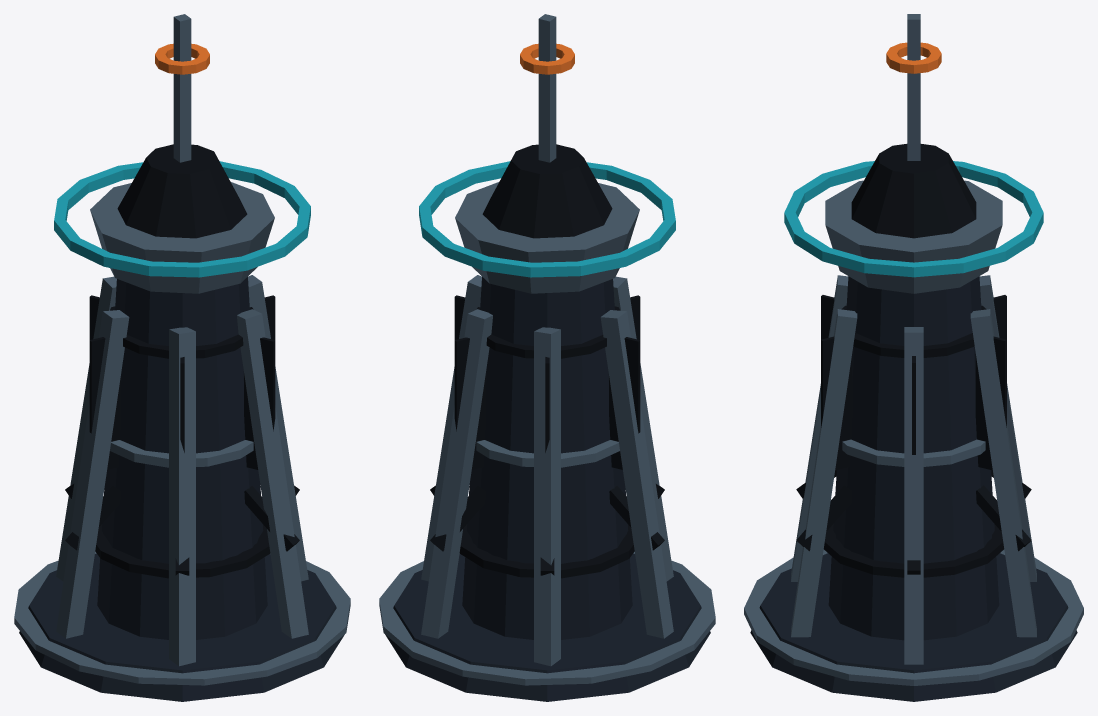
File: chaos_reactor_spire.obj
3 renders of one model, left to right at view 1: azimuth 30°, elevation 25°; view 2: azimuth 150°, elevation 25°; view 3: azimuth 270°, elevation 25°, orthographic.
Visible parts, largest first — view 1: CentralCore, Foundation12Sided, RotorHub, TaperedLeg2, ReceiverCrown, TaperedLeg3, TaperedLeg1, SkyReceiver, CurbPlates, CoreSeamA, CentralAerial, TaperedLeg4 (+8 smaller); view 2: CentralCore, Foundation12Sided, RotorHub, TaperedLeg4, ReceiverCrown, TaperedLeg3, TaperedLeg5, SkyReceiver, CurbPlates, CoreSeamA, CentralAerial, TaperedLeg2 (+8 smaller); view 3: CentralCore, Foundation12Sided, ReceiverCrown, RotorHub, SkyReceiver, CurbPlates, TaperedLeg1, TaperedLeg5, TaperedLeg0, CoreSeamA, TaperedLeg2, TaperedLeg4 (+8 smaller).
Part boxes in pixels (x1,y1,x2,y2): CentralCore: (97,277,267,639); Foundation12Sided: (19,553,344,701); RotorHub: (90,182,274,293); TaperedLeg2: (169,327,195,666); ReceiverCrown: (117,144,247,238); TaperedLeg3: (56,310,129,638); TaperedLeg1: (237,309,308,638); SkyReceiver: (54,161,310,277); CurbPlates: (14,552,350,685); CoreSeamA: (95,524,270,578); CentralAerial: (173,14,191,162); TaperedLeg4: (56,276,116,581); CentralCore: (462,277,632,639); Foundation12Sided: (385,553,710,701); RotorHub: (455,182,639,293); TaperedLeg4: (534,327,560,666); ReceiverCrown: (482,144,612,238); TaperedLeg3: (600,310,673,638); TaperedLeg5: (421,309,492,638); SkyReceiver: (419,161,675,277); CurbPlates: (379,552,715,685); CoreSeamA: (459,524,634,578); CentralAerial: (538,14,556,162); TaperedLeg2: (613,276,673,581); CentralCore: (828,276,999,640); Foundation12Sided: (750,553,1077,701); ReceiverCrown: (851,144,976,238); RotorHub: (825,180,1002,293); SkyReceiver: (784,161,1043,277); CurbPlates: (744,549,1083,685); TaperedLeg1: (791,309,857,637); TaperedLeg5: (970,309,1036,637); TaperedLeg0: (904,327,923,664); CoreSeamA: (823,524,1004,577); TaperedLeg2: (791,275,848,581); TaperedLeg4: (979,275,1036,581).
Bounding box in the file's own units: 13.5 × 27 × 13.5.
